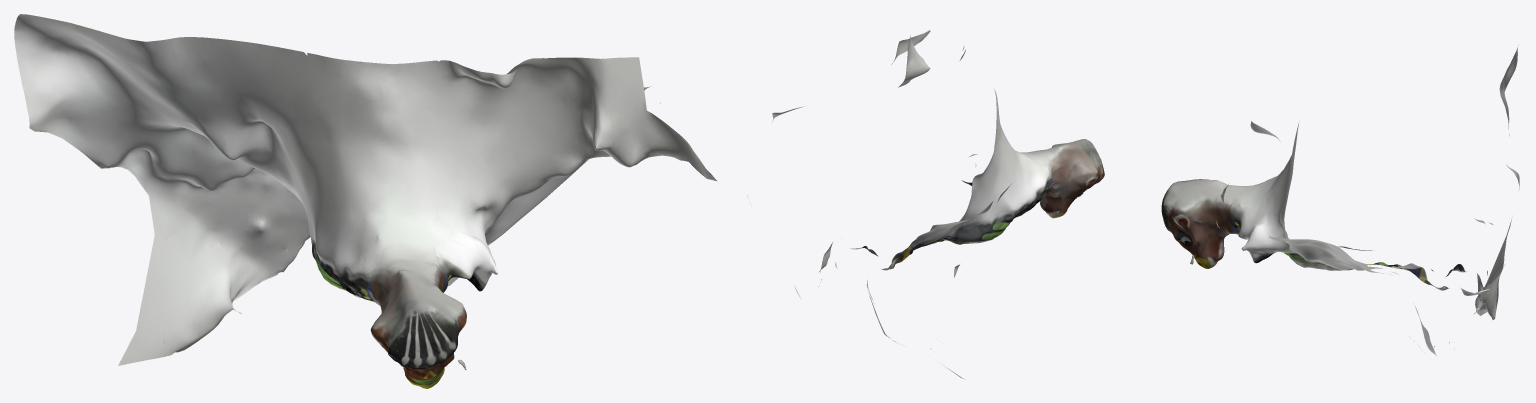
3 views of the same model, side by side, from view 1: azimuth 30°, elevation 25°; view 2: azimuth 150°, elevation 25°; view 3: azimuth 270°, elevation 25° (orthographic). The views are drawn at different scales.
Bounding box in the file's own units: 1.09 × 0.7069 × 0.9859.
Materials: 1 (1 with a texture image).
